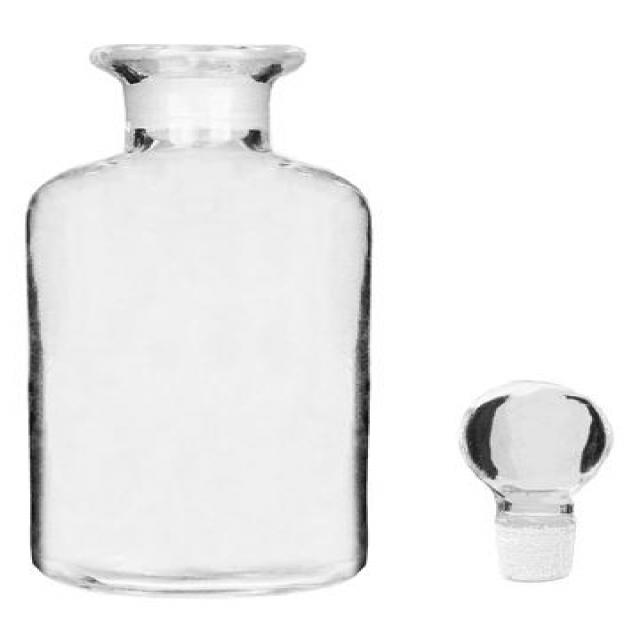non-organic waste: (14, 39, 388, 596), (450, 369, 618, 594)
